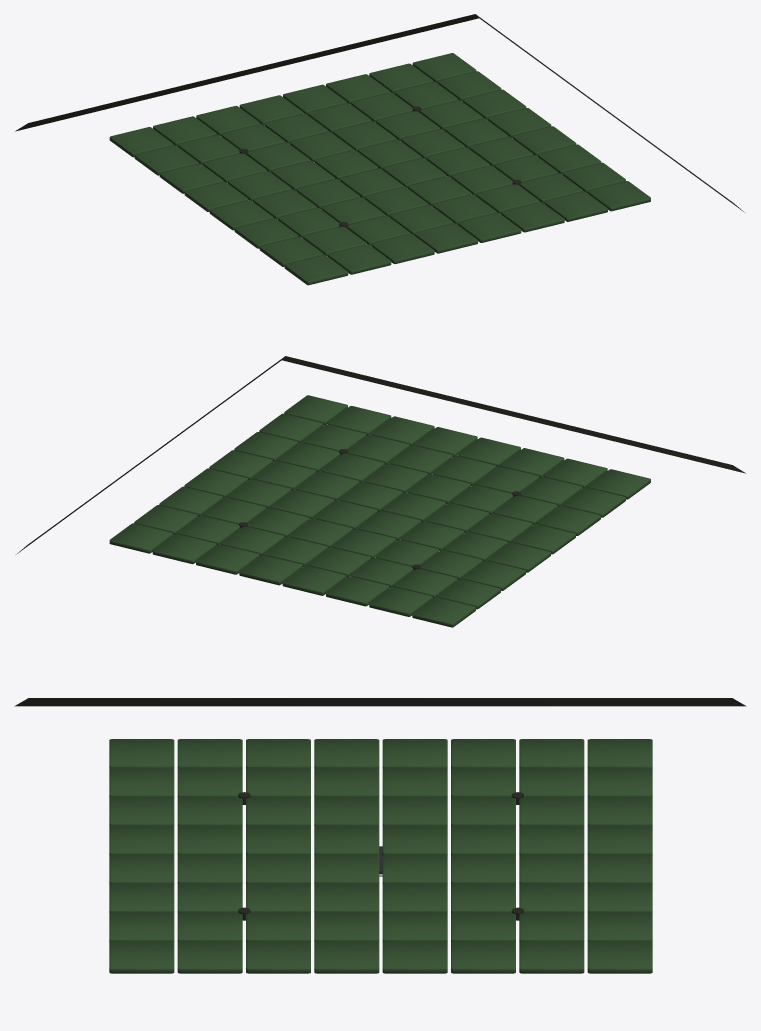
The model's file is othello.glb.
3 renders of one model, top to bottom at view 1: azimuth 30°, elevation 25°; view 2: azimuth 150°, elevation 25°; view 3: azimuth 270°, elevation 25°, orthographic. The views are drawn at different scales.
Visible parts, largest first — view 1: squares, frame; view 2: squares, frame; view 3: squares, frame.
Boxes of the visible parts, box(x1,y1,x2,y2) form: squares: box(109, 53, 650, 285); frame: box(15, 14, 744, 228); squares: box(109, 395, 650, 627); frame: box(16, 356, 745, 570); squares: box(109, 739, 652, 973); frame: box(14, 698, 746, 920).
Size of the model in its own units: 1.88 by 0.0492 by 1.88.
